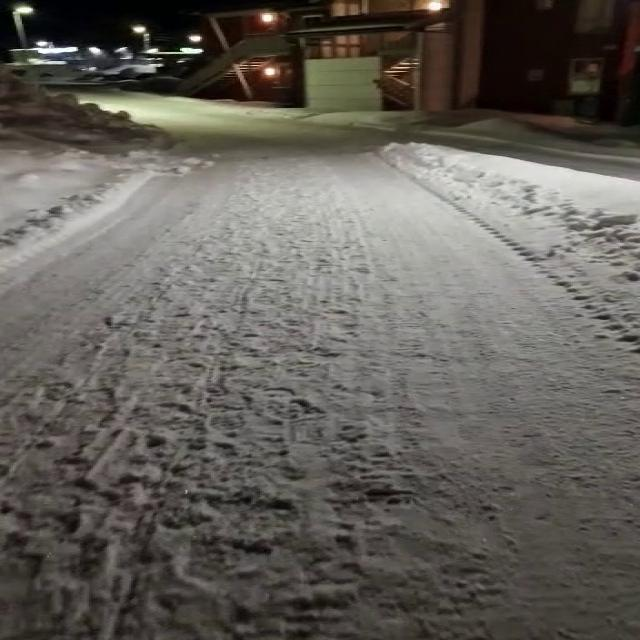path: (2, 91, 640, 640)
